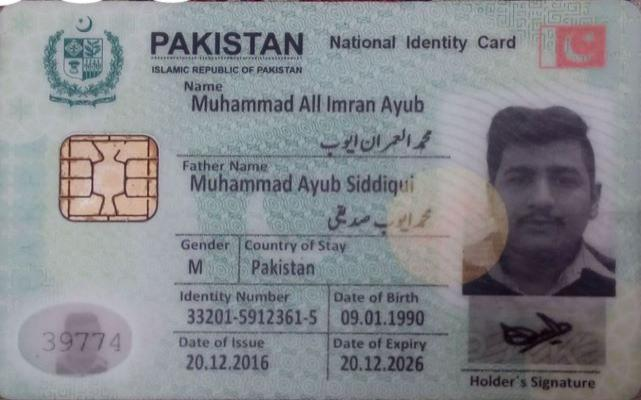fname: (186, 169, 417, 199)
name: (186, 90, 427, 117)
number: (184, 304, 322, 329)
